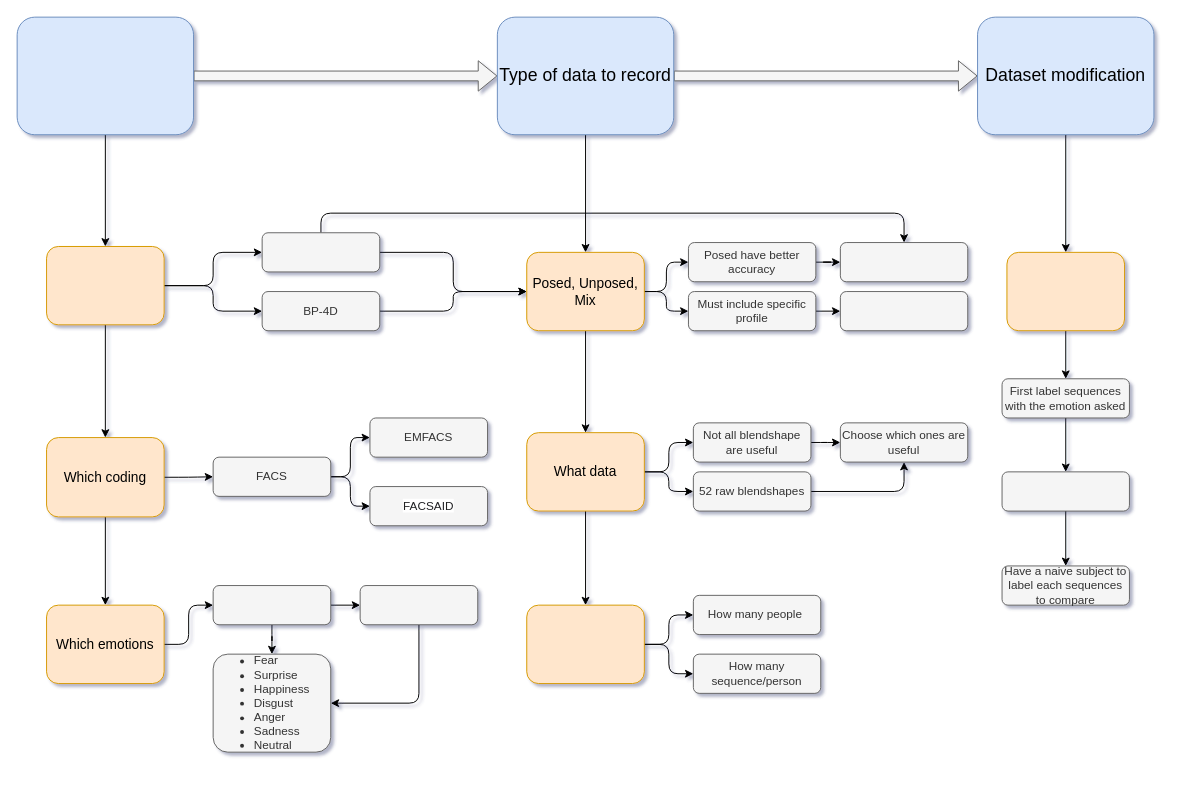
This 1177x787 diagram has some shape labels left out. Each missing label, with the centre of its shape:
"6+1 expressions" belongs at pixel 271 605.
"Check that AUs correponds" belongs at pixel 1065 491.
"CK+" belongs at pixel 320 252.
"Create protocol to follow" belongs at pixel 585 644.
"Discrete mapping can be more useful for real applications" belongs at pixel 418 605.
"glasses, lenses, beard, piercing" belongs at pixel 903 311.
"Labelize dataset" belongs at pixel 1065 291.
"Sequences of posed emotions" belongs at pixel 903 262.
"What dataset to base on" belongs at pixel 105 285.
"Which model" belongs at pixel 105 75.
